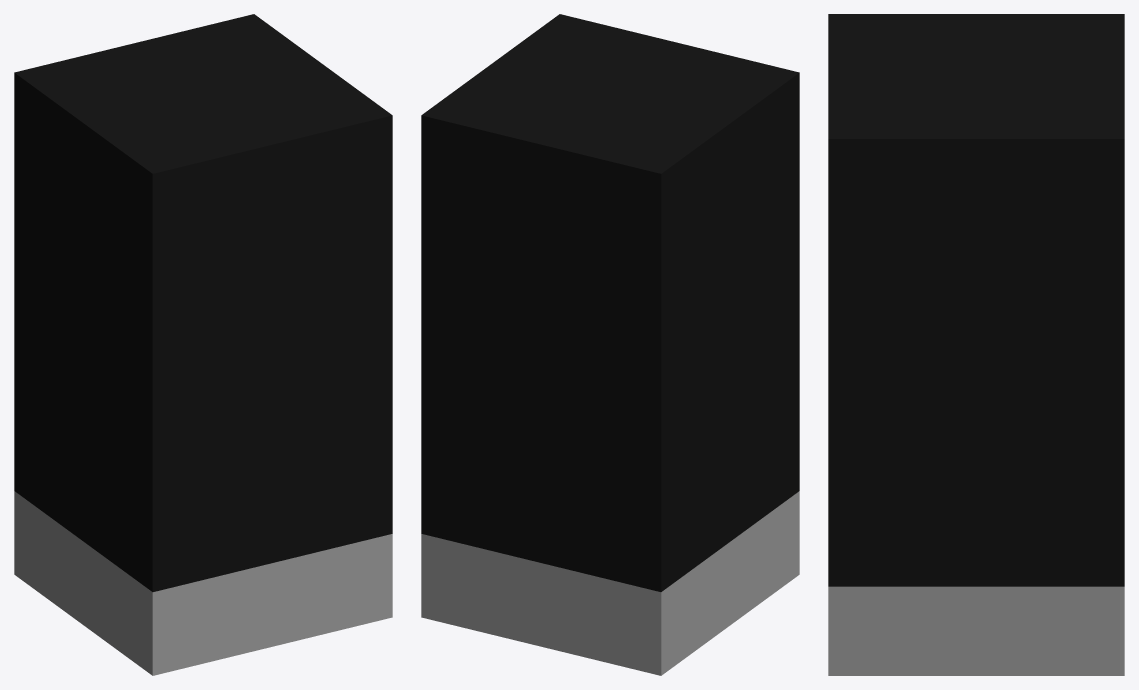
Rendered from LEG_BOTTOM.obj.
The picture shows the model from 3 angles, left to right: view 1: azimuth 30°, elevation 25°; view 2: azimuth 150°, elevation 25°; view 3: azimuth 270°, elevation 25°; orthographic projection. The views are drawn at different scales.
Size of the model in its own units: 0.3 by 0.6 by 0.3.
Materials: 1 (1 with a texture image).
